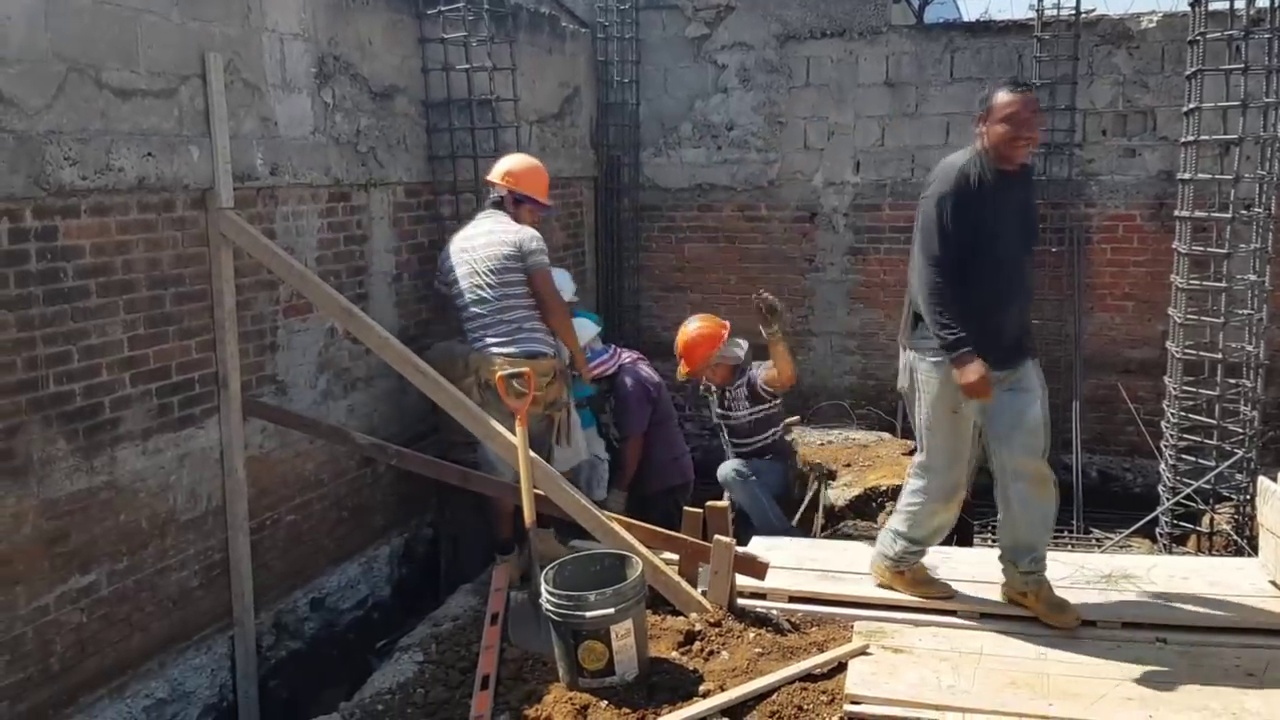helmet: (480, 156, 551, 204), (675, 318, 728, 374), (550, 263, 580, 307), (568, 318, 602, 347)
helmet-off: (972, 76, 1050, 175)
helmet-on: (674, 311, 753, 394), (473, 152, 552, 231), (567, 316, 615, 365)
person: (878, 76, 1063, 685), (445, 153, 608, 552), (678, 314, 808, 538), (566, 315, 686, 526)
